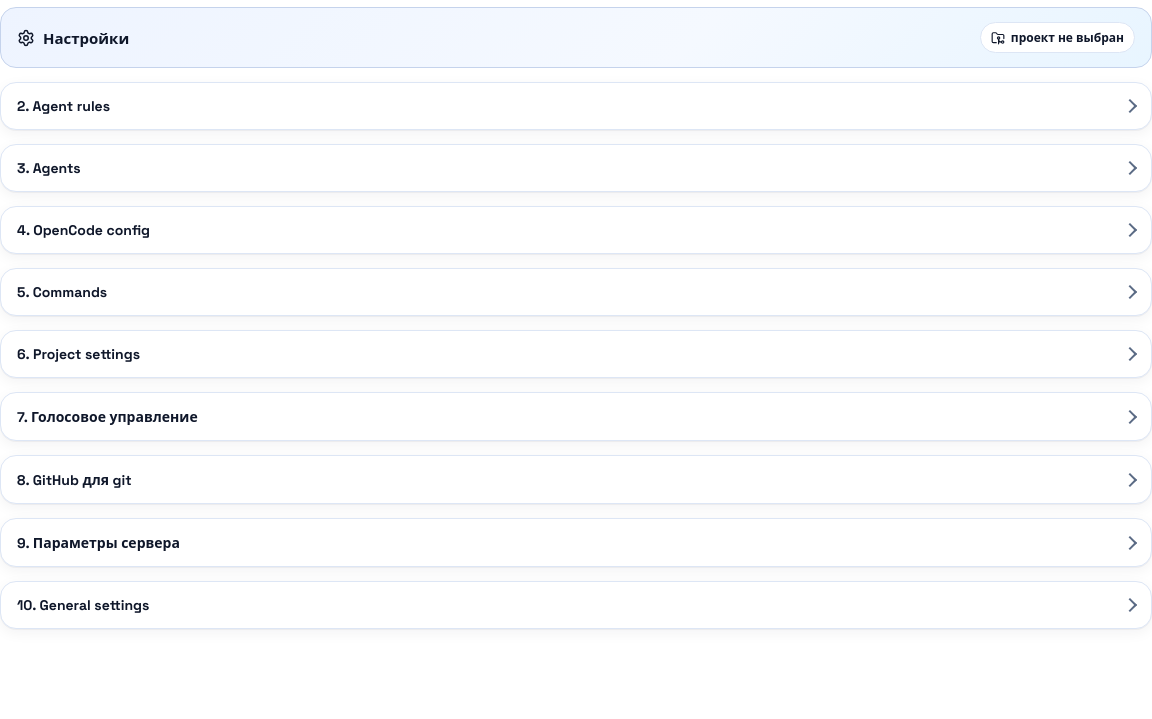
Test case: SettingsTab › disables runtime rollback when no rollback snapshot remains
Click the heading "10. General settings" at coordinates (83, 605), box left=17, top=596, right=149, bottom=614
(page scrolled)
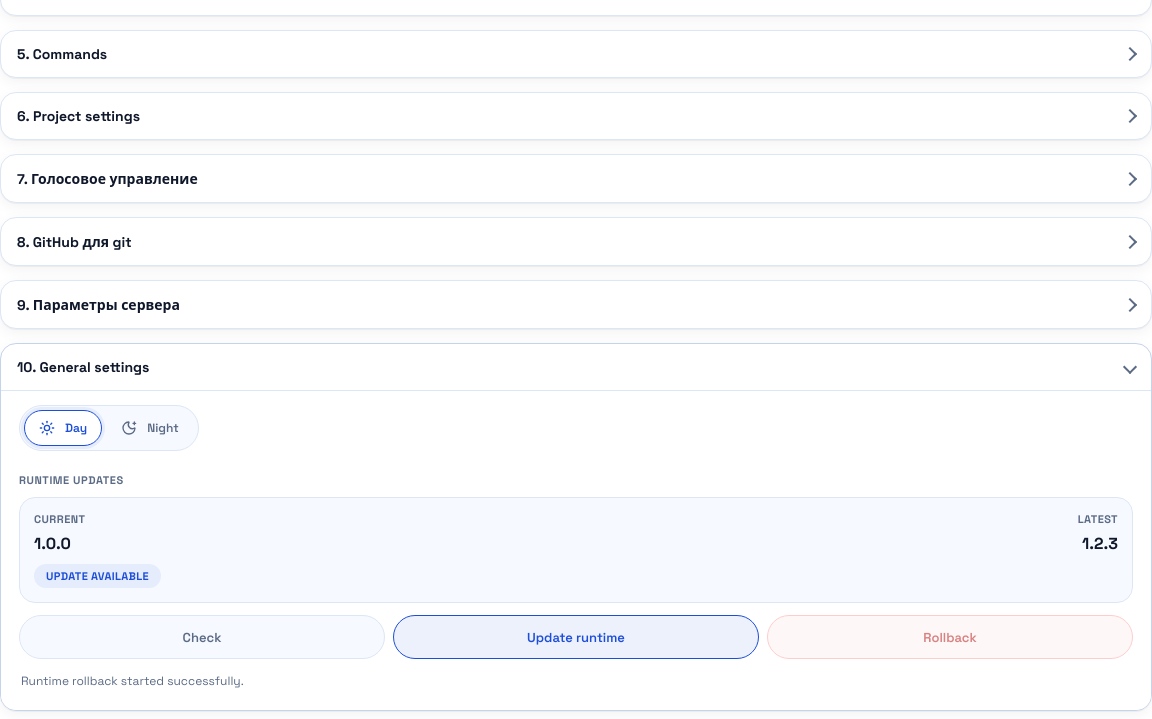
Result: the button "Rollback" is disabled at left=767, top=615, right=1133, bottom=659
